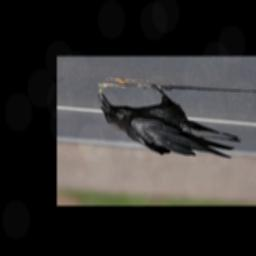Crow: (98, 84, 242, 158)
